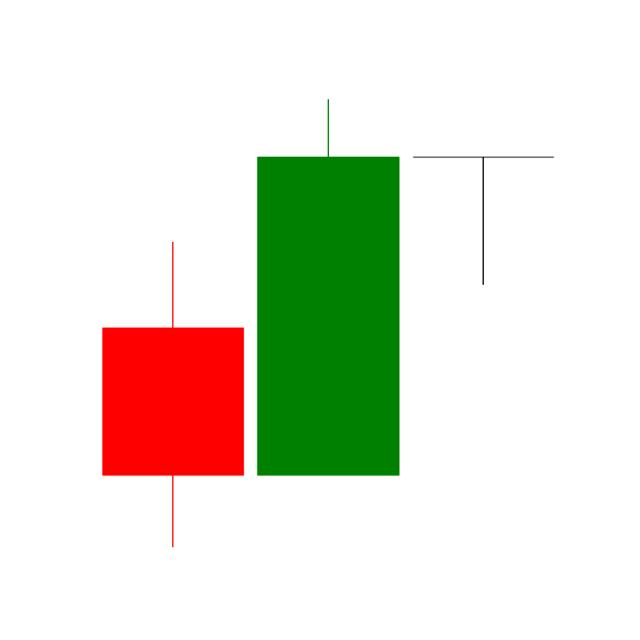Dragonfly Doji: (405, 155, 561, 287)
